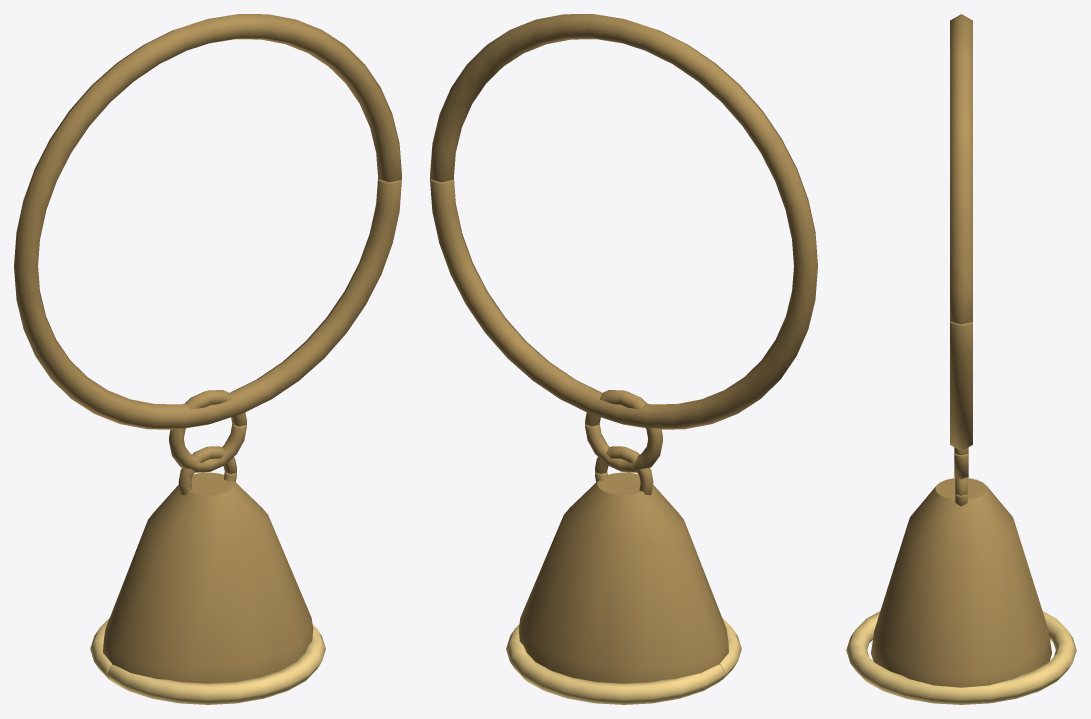
Rendered from item_084.glb.
3 views of the same model, side by side, from view 1: azimuth 30°, elevation 25°; view 2: azimuth 150°, elevation 25°; view 3: azimuth 270°, elevation 25° (orthographic). The views are drawn at different scales.
Parts seen in each view (by area): view 1: Item_084_funeral_chime; view 2: Item_084_funeral_chime; view 3: Item_084_funeral_chime.
Part boxes in pixels (x1,y1,x2,y2): Item_084_funeral_chime: [14, 14, 401, 704]; Item_084_funeral_chime: [430, 14, 817, 704]; Item_084_funeral_chime: [846, 14, 1076, 704].
Size of the model in its own units: 0.4259 by 0.709 by 0.2244.
